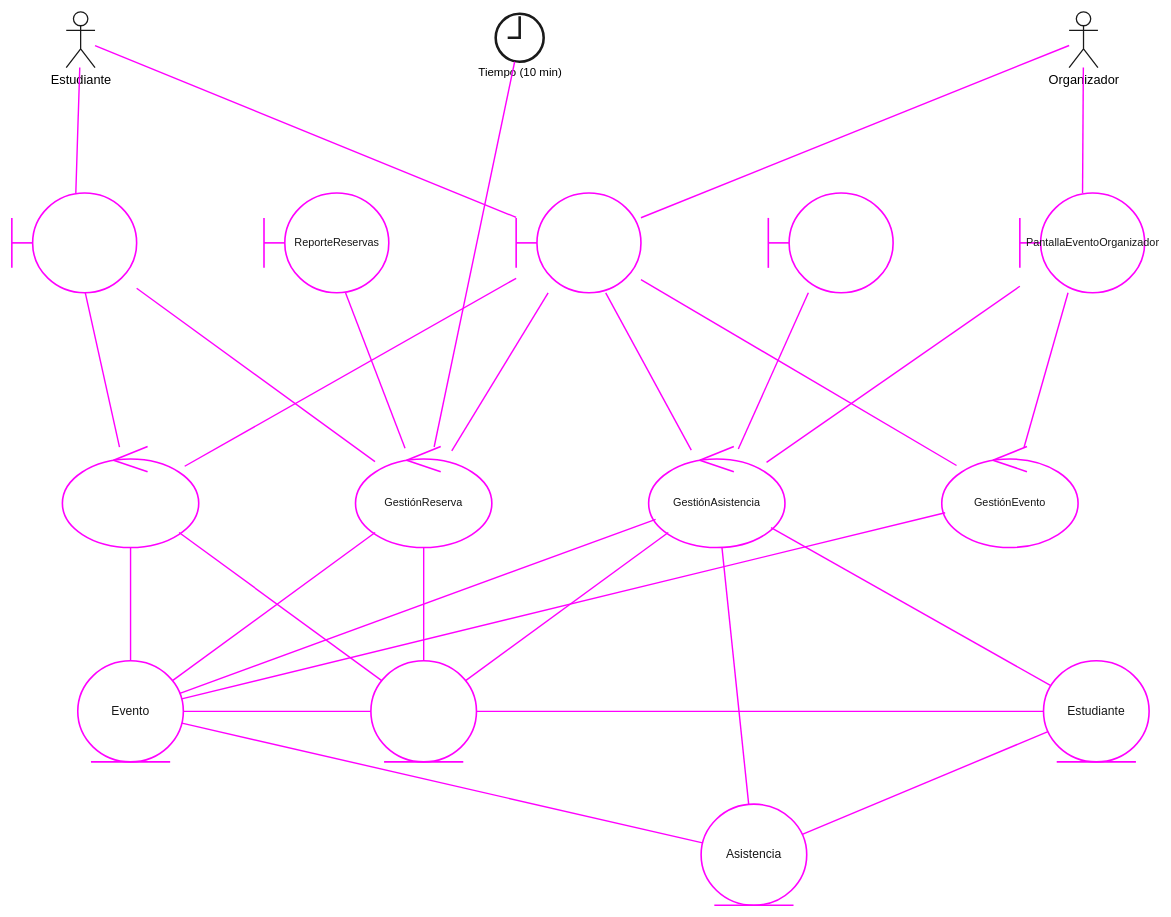
The diagram is 1171 pixels wide and 917 high, and some of its shapes have lost their labels. The centre of each missing label's shape, as x and y in pixels:
CalculoDisponibilidad: [130,496]
InterfazCampusFest: [578,242]
PantallaEventos: [74,242]
ReporteAsistencias: [830,242]
Reserva: [423,711]
